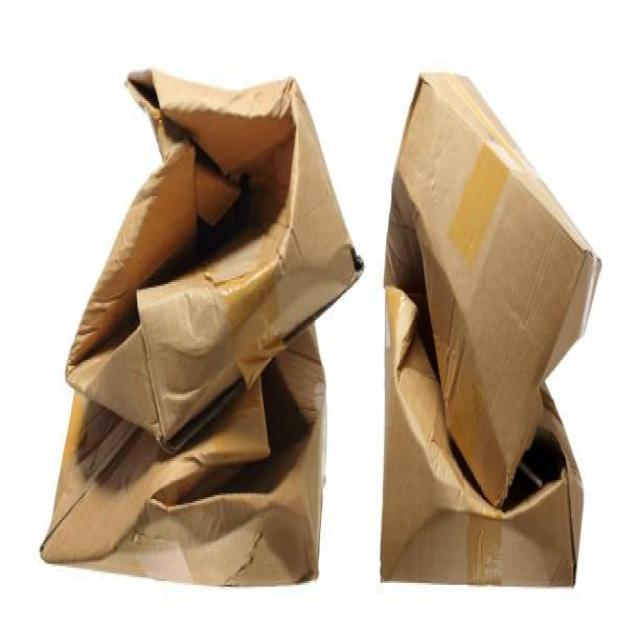cardboard: (38, 65, 364, 588), (379, 69, 602, 590)
